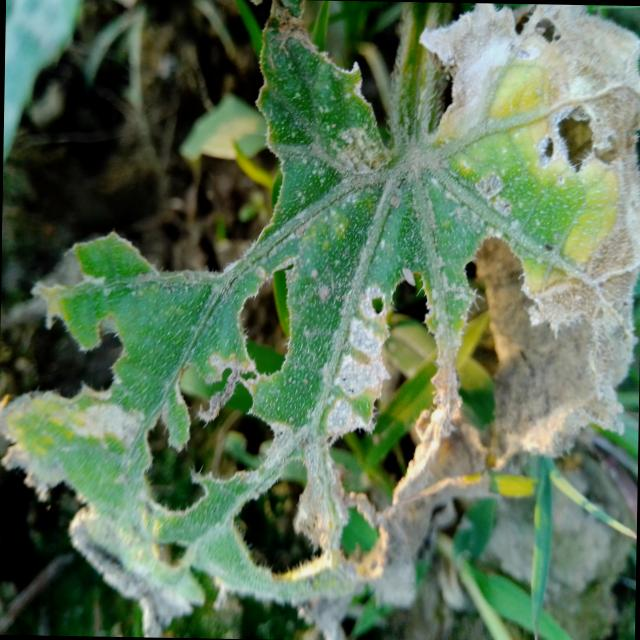cucumber_anthracnose: (256, 0, 640, 494), (3, 255, 257, 511), (92, 496, 424, 622)
